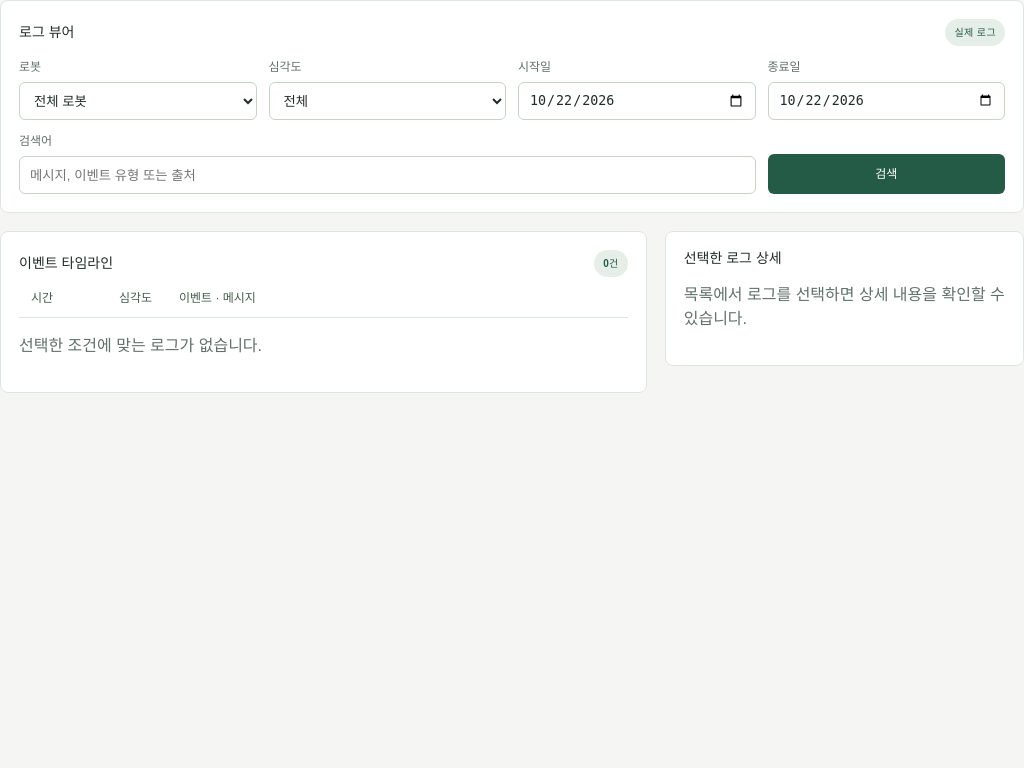
Scenario: 재검색 결과가 비면 이전 선택과 상세를 비운다
What coordinates should you click on to do the following:
click the button "검색"
I would click on:
 (886, 174)
Its box is x1=768 y1=154 x2=1005 y2=194.
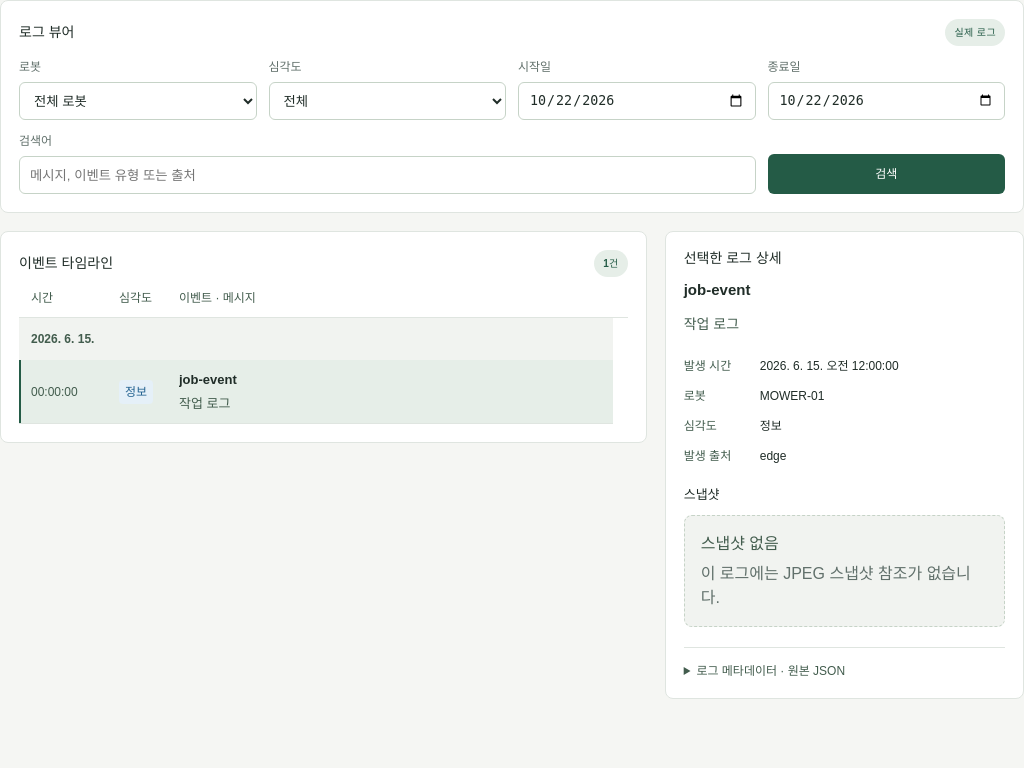
expect the button "00:00:00 정보 job-event 작업 로그" is shown: met, box x1=19 y1=360 x2=613 y2=424
What coordinates should you click on to do the following:
click the button "검색"
I would click on:
 (886, 174)
Its box is x1=768 y1=154 x2=1005 y2=194.
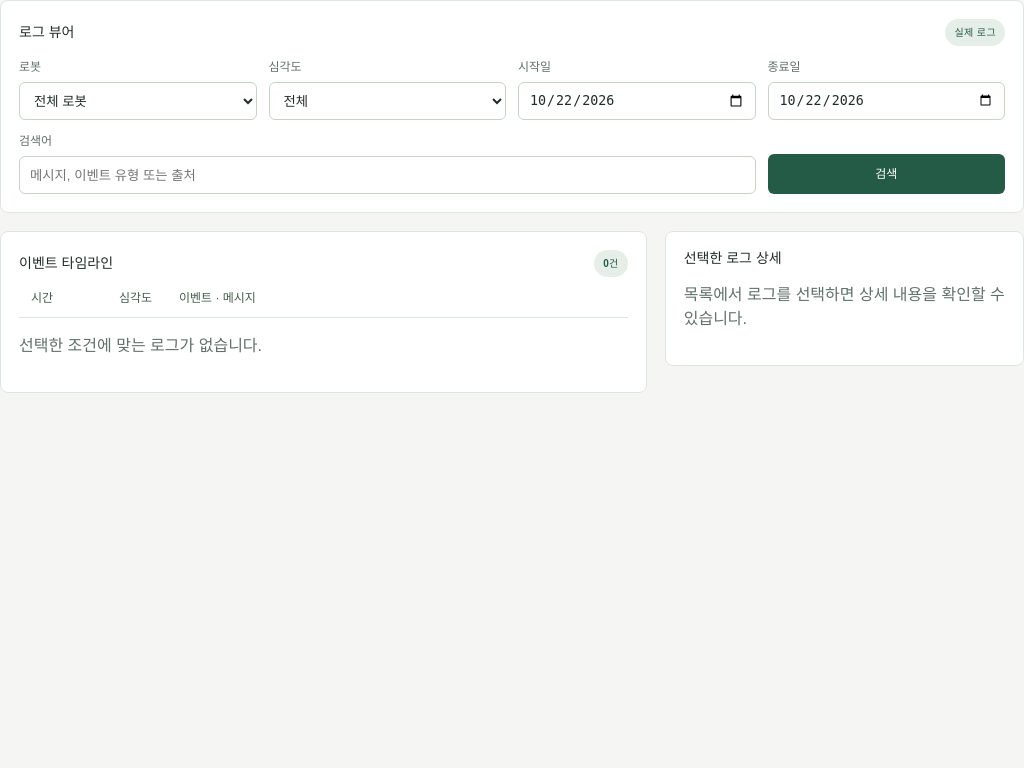
expect the text "선택한 조건에 맞는 로그가 없습니다." is shown: met, box x1=19 y1=337 x2=262 y2=354
expect the element "선택한 로그 상세" shows "목록에서 로그를 선택하면": met, box x1=684 y1=286 x2=1005 y2=327
